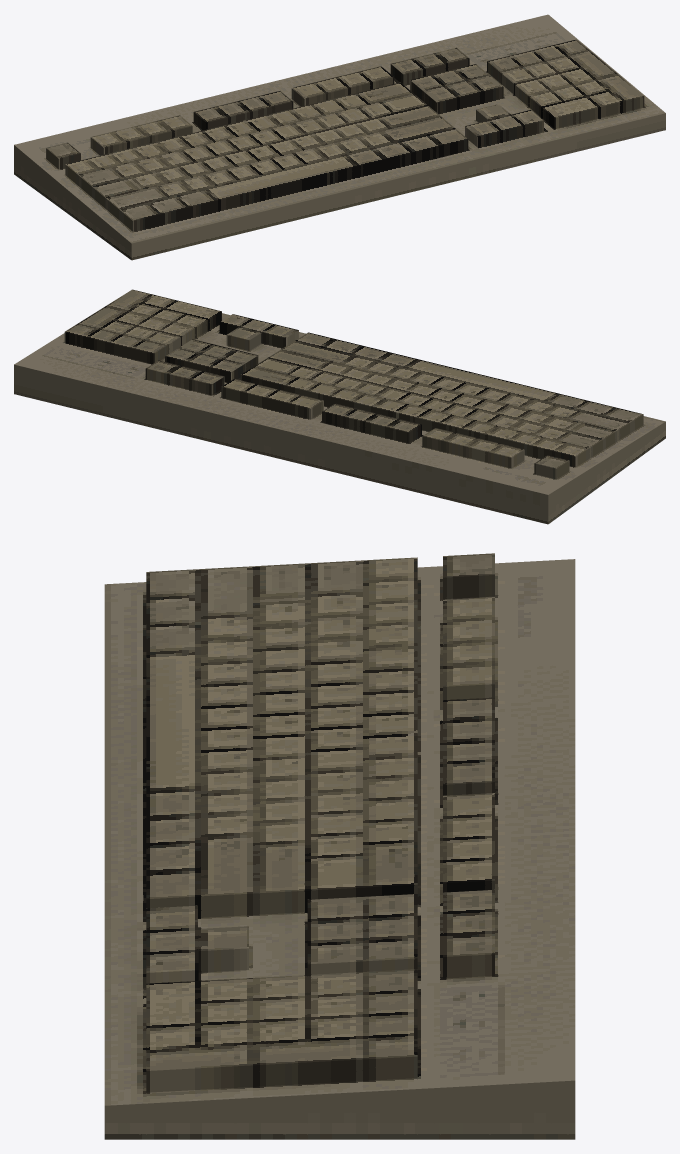
File: pc_keyboard.glb
3 renders of one model, top to bottom at view 1: azimuth 30°, elevation 25°; view 2: azimuth 150°, elevation 25°; view 3: azimuth 270°, elevation 25°, orthographic. The views are drawn at different scales.
Parts seen in each view (by area): view 1: pc_keyboard; view 2: pc_keyboard; view 3: pc_keyboard.
Boxes of the visible parts, x1,y1,x2,y2 form: pc_keyboard: (14,14,665,260); pc_keyboard: (14,289,665,524); pc_keyboard: (104,553,575,1139).
Bounding box in the file's own units: 0.4605 × 0.0315 × 0.1756.
1 material, 1 textured.
